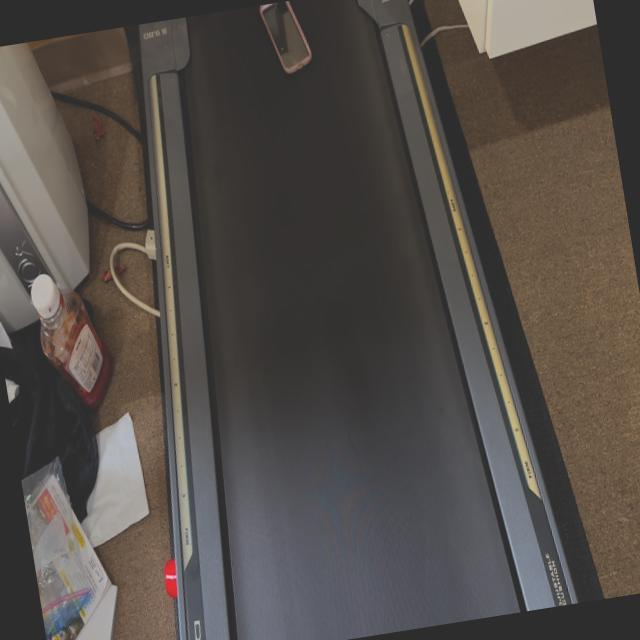Trash: (256, 0, 315, 79)
